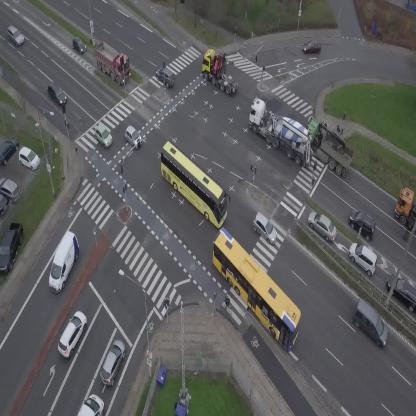bicycle: (222, 295, 232, 315)
bus: (195, 226, 315, 352), (146, 139, 241, 230)
car: (344, 297, 397, 350), (53, 308, 91, 359), (96, 337, 130, 388), (343, 239, 384, 278), (303, 207, 343, 244), (342, 205, 382, 242), (246, 211, 283, 246), (90, 123, 116, 150), (43, 80, 69, 107), (120, 124, 146, 150), (152, 64, 179, 89), (3, 24, 27, 48), (68, 34, 89, 57), (303, 39, 321, 53)
lorry: (237, 94, 327, 171), (296, 114, 361, 178), (193, 43, 251, 98), (41, 230, 86, 294), (85, 36, 139, 87), (395, 186, 416, 230), (78, 394, 104, 416)
